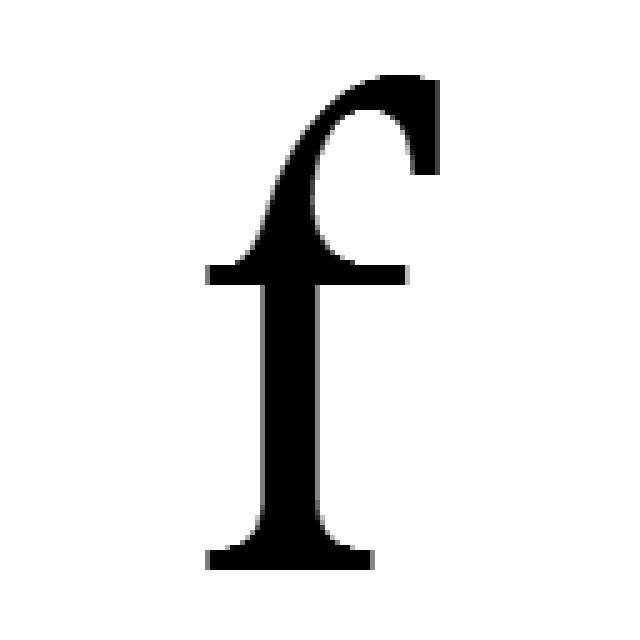F: (195, 65, 445, 575)
